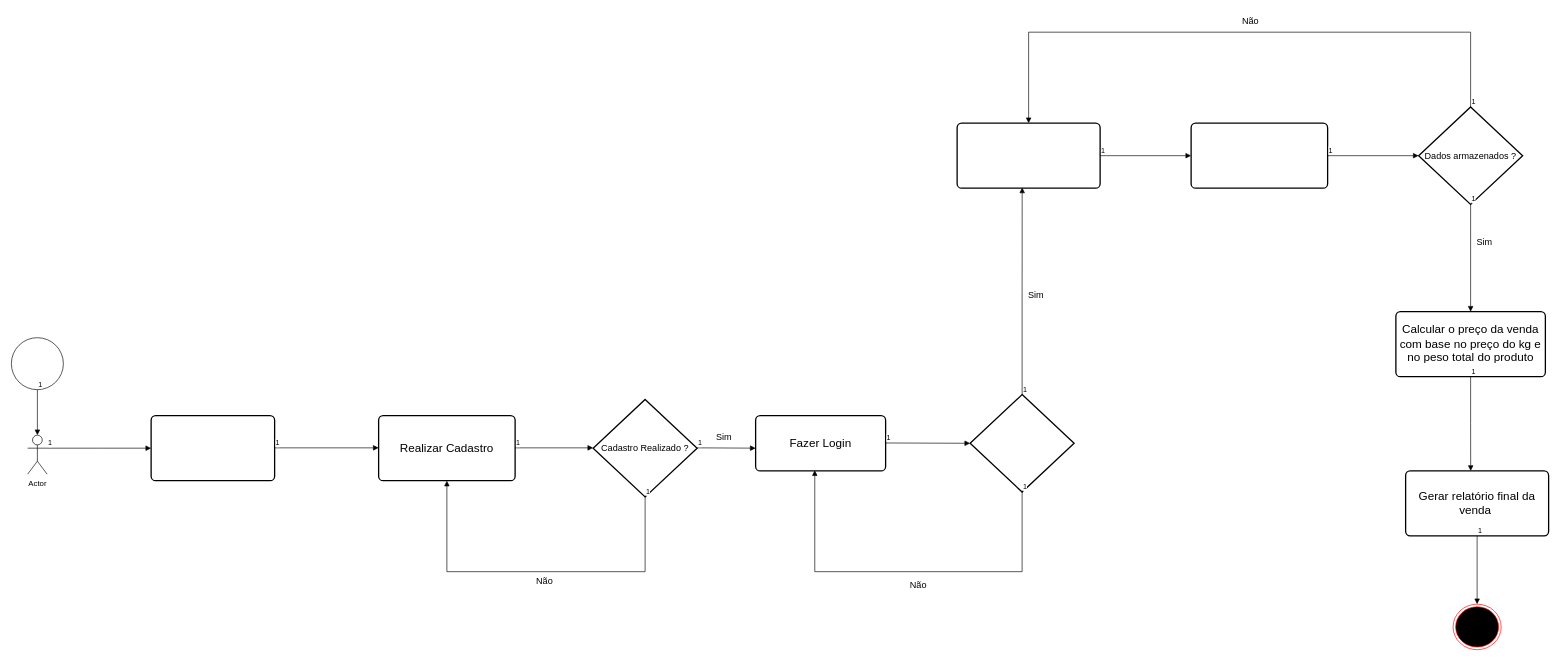
The diagram is 1561 pixels wide and 661 high, and some of its shapes have lost their labels. The centre of each missing label's shape, as x and y in pixels:
"Acessar Plataforma" belongs at (x=212, y=448).
"Armazenar os dados no database" belongs at (x=1259, y=155).
"Informar os dados de venda (produto, descrição, preço do kg e peso total )" belongs at (x=1028, y=155).
"Login Realizado ?" belongs at (x=1021, y=443).
